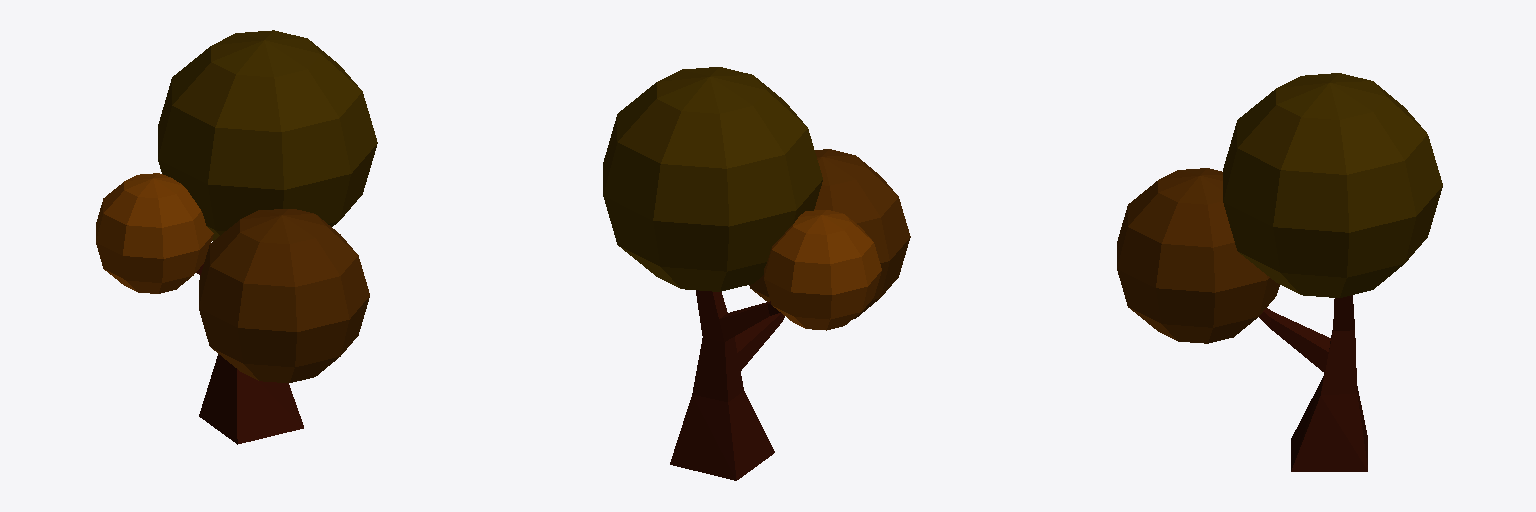
File: Tree3.obj
The picture shows the model from 3 angles: view 1: azimuth 30°, elevation 25°; view 2: azimuth 150°, elevation 25°; view 3: azimuth 270°, elevation 25°; orthographic projection.
Parts seen in each view (by area): view 1: Sphere.002, Sphere.003_Sphere.004, Sphere.001, Cube; view 2: Sphere.002, Cube, Sphere.001, Sphere.003_Sphere.004; view 3: Sphere.002, Sphere.003_Sphere.004, Cube.
Boxes of the visible parts, <box> form: Sphere.002: <box>158,30,377,240</box>; Sphere.003_Sphere.004: <box>199,209,369,382</box>; Sphere.001: <box>96,173,213,293</box>; Cube: <box>196,264,303,444</box>; Sphere.002: <box>603,67,822,291</box>; Cube: <box>670,290,784,480</box>; Sphere.001: <box>764,210,881,330</box>; Sphere.003_Sphere.004: <box>749,149,910,318</box>; Sphere.002: <box>1223,73,1442,297</box>; Sphere.003_Sphere.004: <box>1117,168,1279,343</box>; Cube: <box>1259,295,1367,471</box>.
Size of the model in its own units: 7.75 by 10.8 by 8.42.